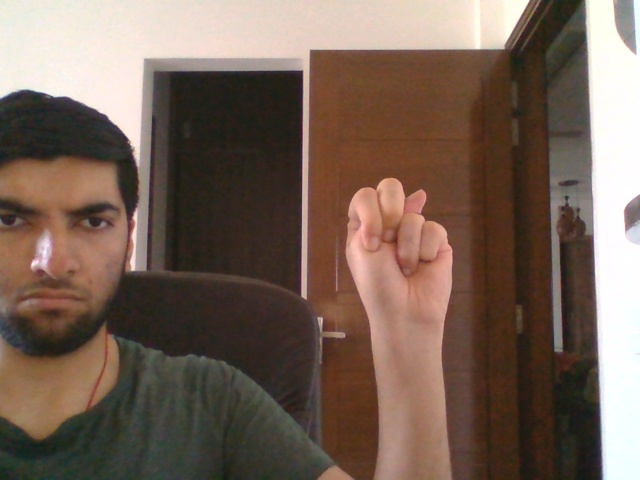LetterN: (344, 177, 454, 329)
